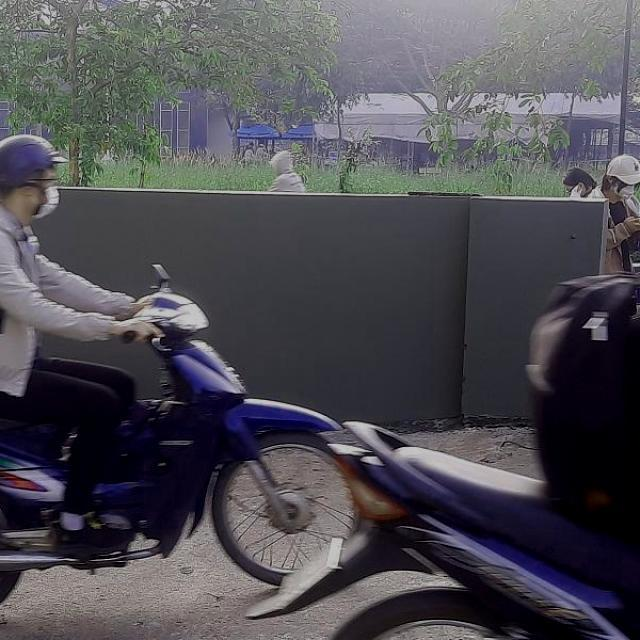Helmet: (0, 133, 67, 221)
